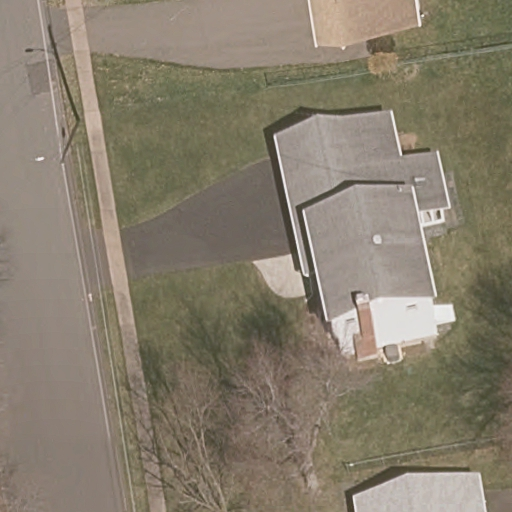DT: (58, 116, 83, 165)
